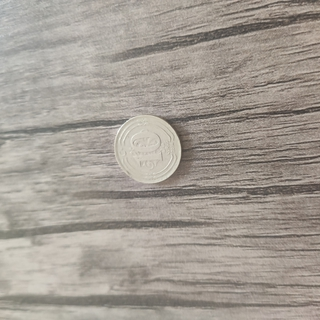10KURUS: (112, 114, 183, 185)
